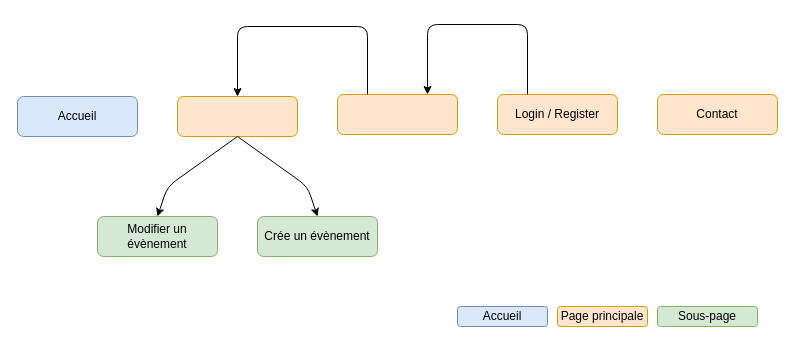
This 795x344 diagram has some shape labels left out. Each missing label, with the centre of its shape:
"Mon calendrier" belongs at (237,116).
"Profil" belongs at (397,114).
